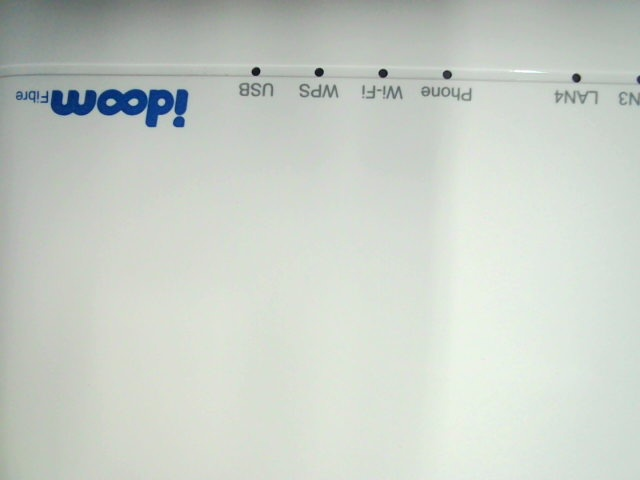BB_idoom: (11, 68, 204, 133)
